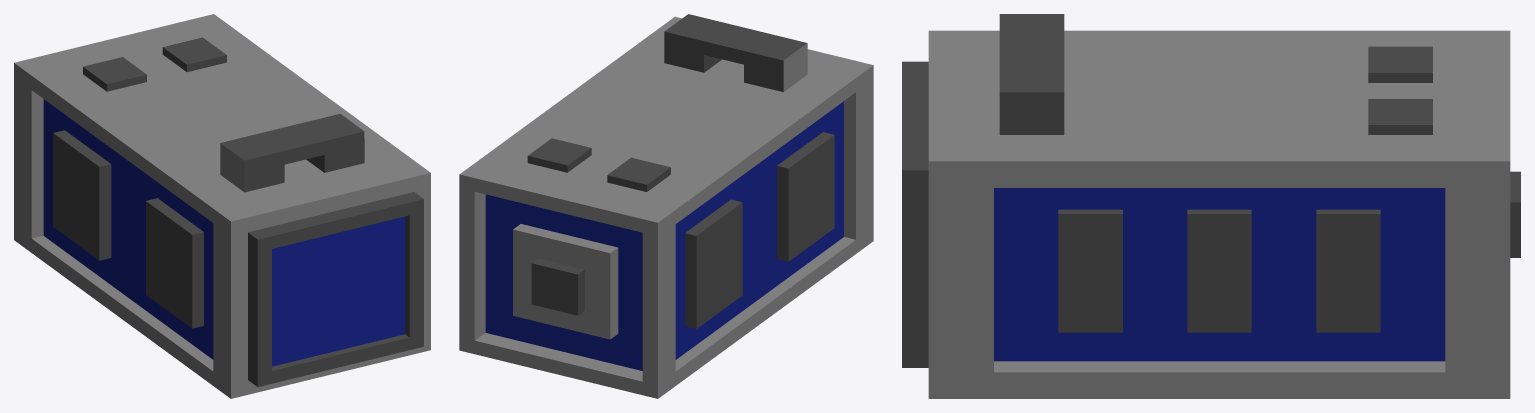
The model's file is shield_modul.glb.
The picture shows the model from 3 angles, left to right: view 1: azimuth 30°, elevation 25°; view 2: azimuth 150°, elevation 25°; view 3: azimuth 270°, elevation 25°; orthographic projection. The views are drawn at different scales.
Visible parts, largest first — view 1: Cube; view 2: Cube; view 3: Cube.
Boxes of the visible parts, box(x1,y1,x2,y2) form: Cube: box(14, 14, 430, 398); Cube: box(459, 14, 873, 398); Cube: box(902, 14, 1520, 398).
Bounding box in the file's own units: 1 × 1 × 2.
